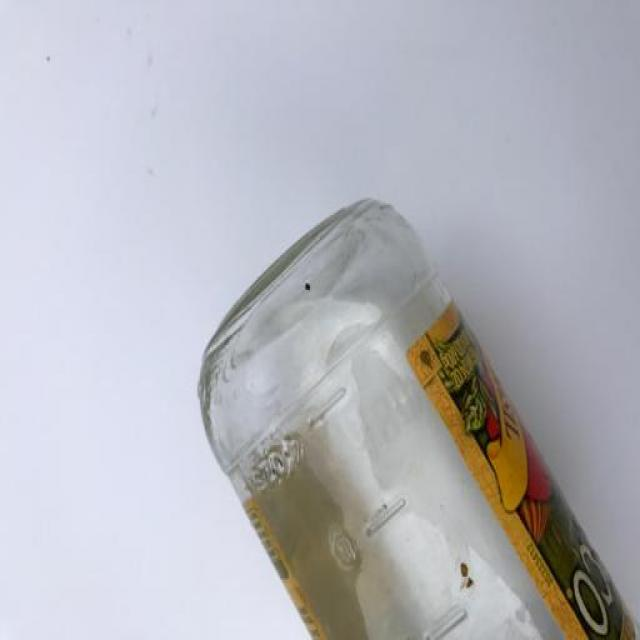glass: (172, 174, 640, 640)
